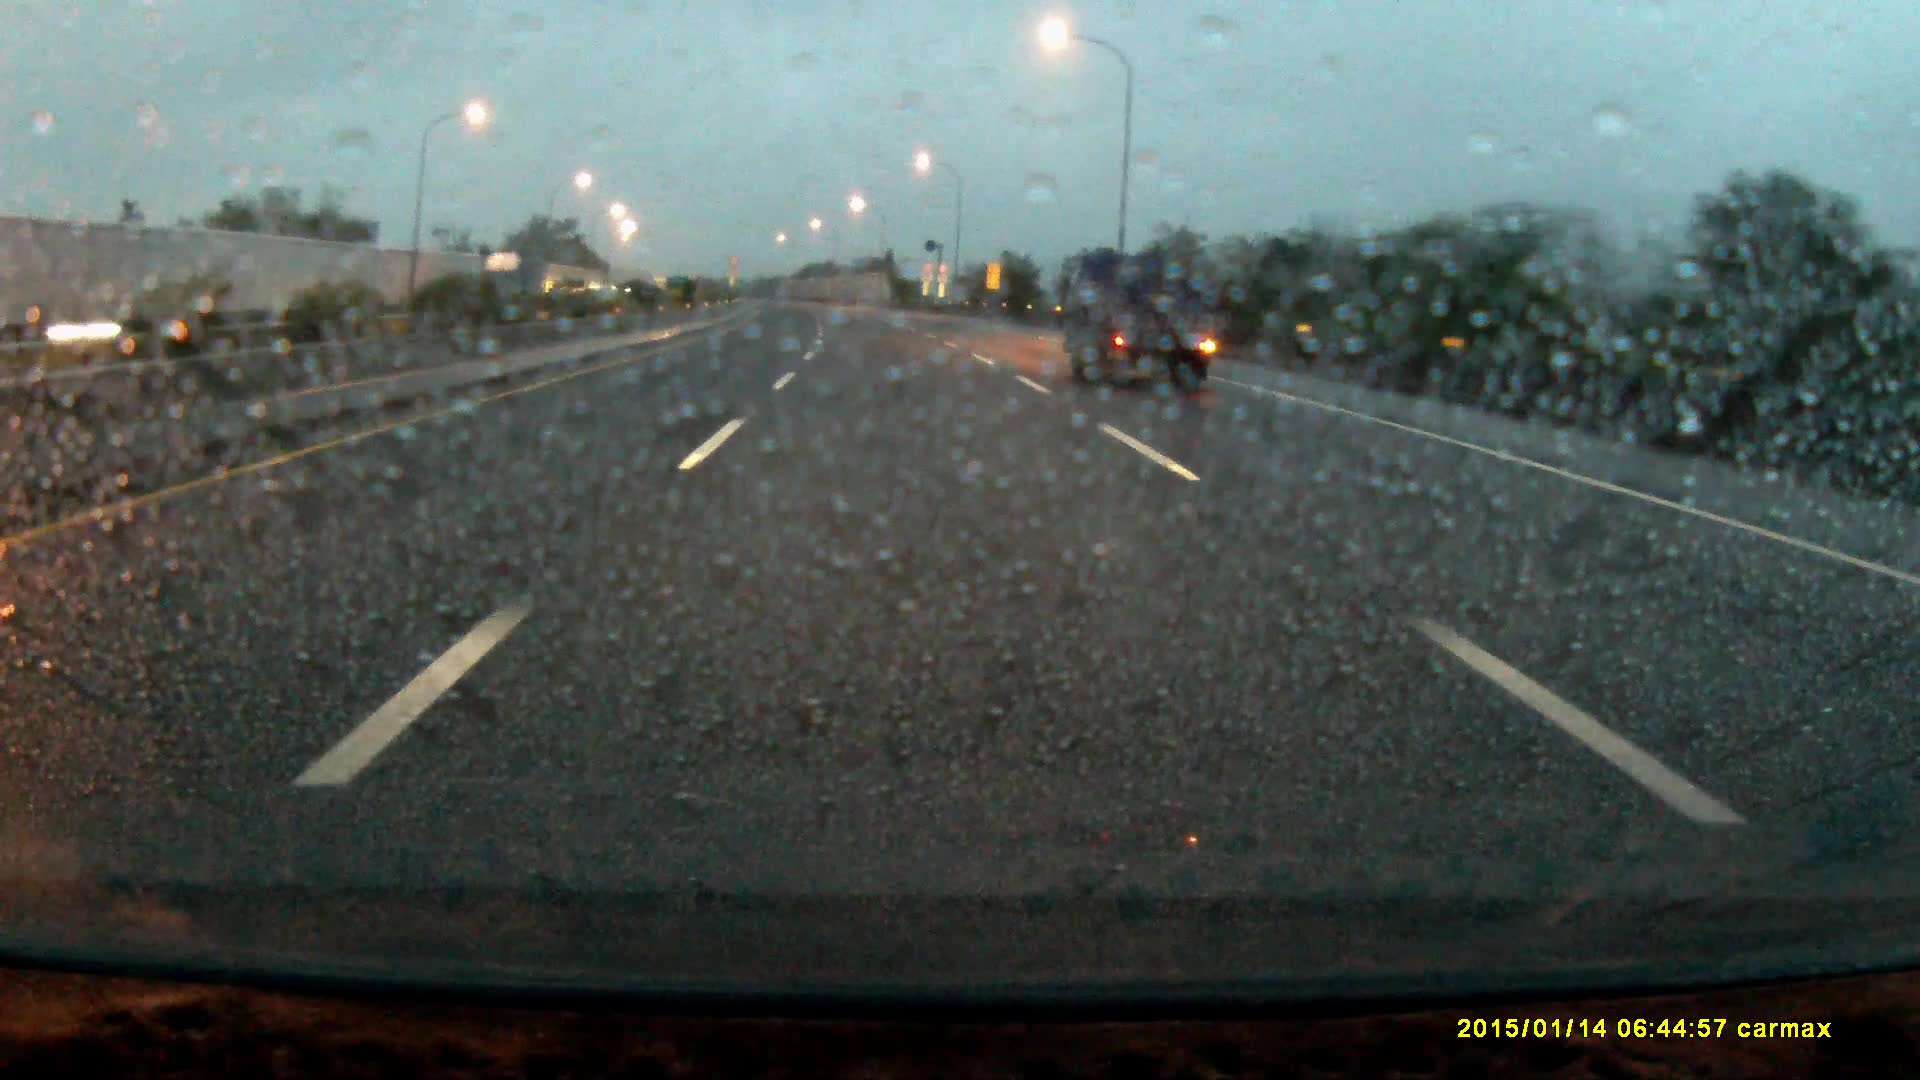vehicle: (1062, 251, 1211, 400), (477, 251, 547, 327)
